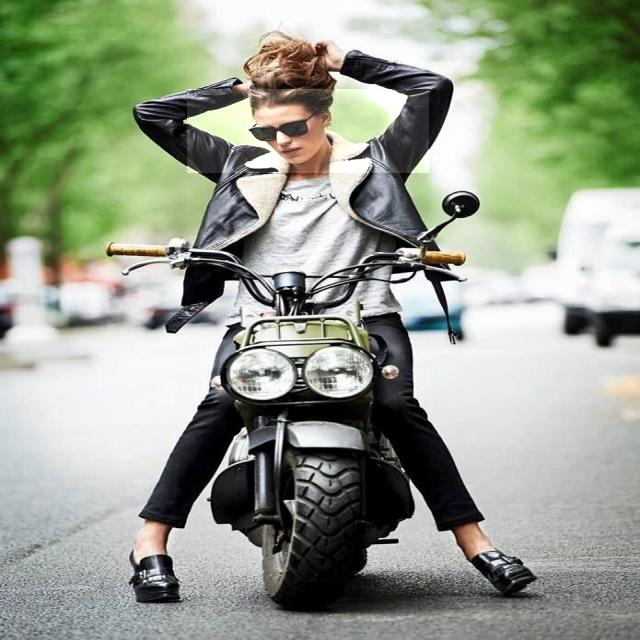No_Helmet: (187, 90, 429, 174)
